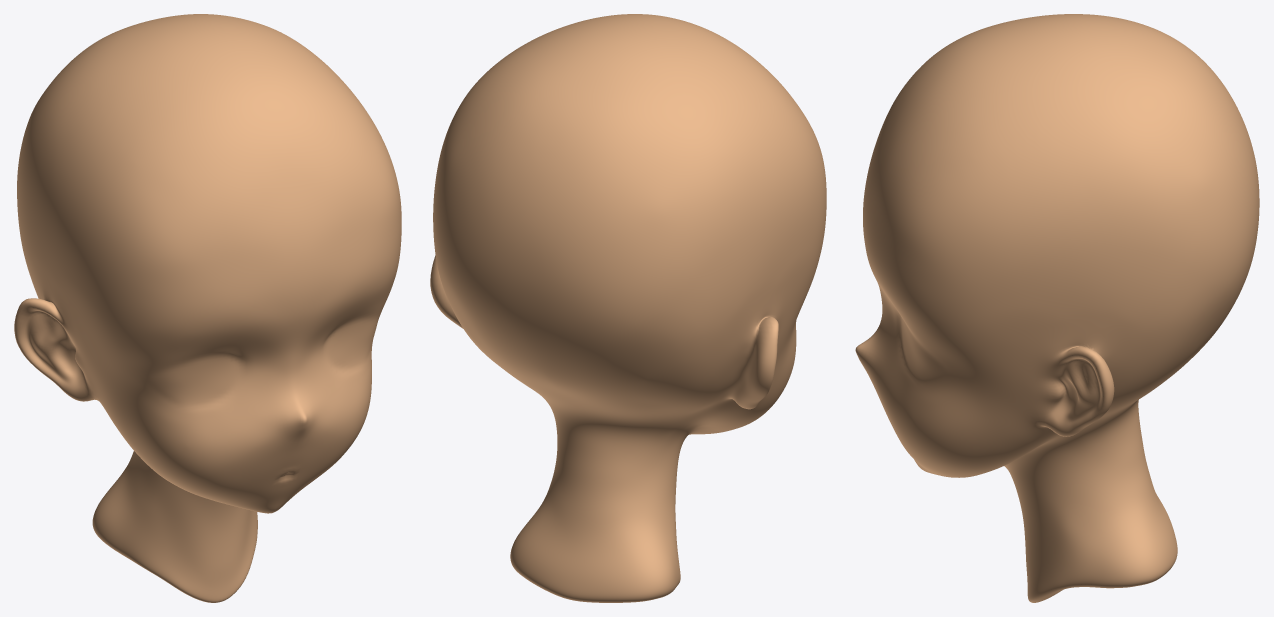
Rendered from headTest.glb.
The picture shows the model from 3 angles, left to right: view 1: azimuth 30°, elevation 25°; view 2: azimuth 150°, elevation 25°; view 3: azimuth 270°, elevation 25°; orthographic projection. The views are drawn at different scales.
Visible parts, largest first — view 1: head_test; view 2: head_test; view 3: head_test.
Part boxes in pixels (x1,y1,x2,y2): head_test: (14, 14, 401, 602); head_test: (430, 14, 826, 602); head_test: (855, 14, 1259, 602).
Size of the model in its own units: 19.68 by 30.89 by 19.94.
